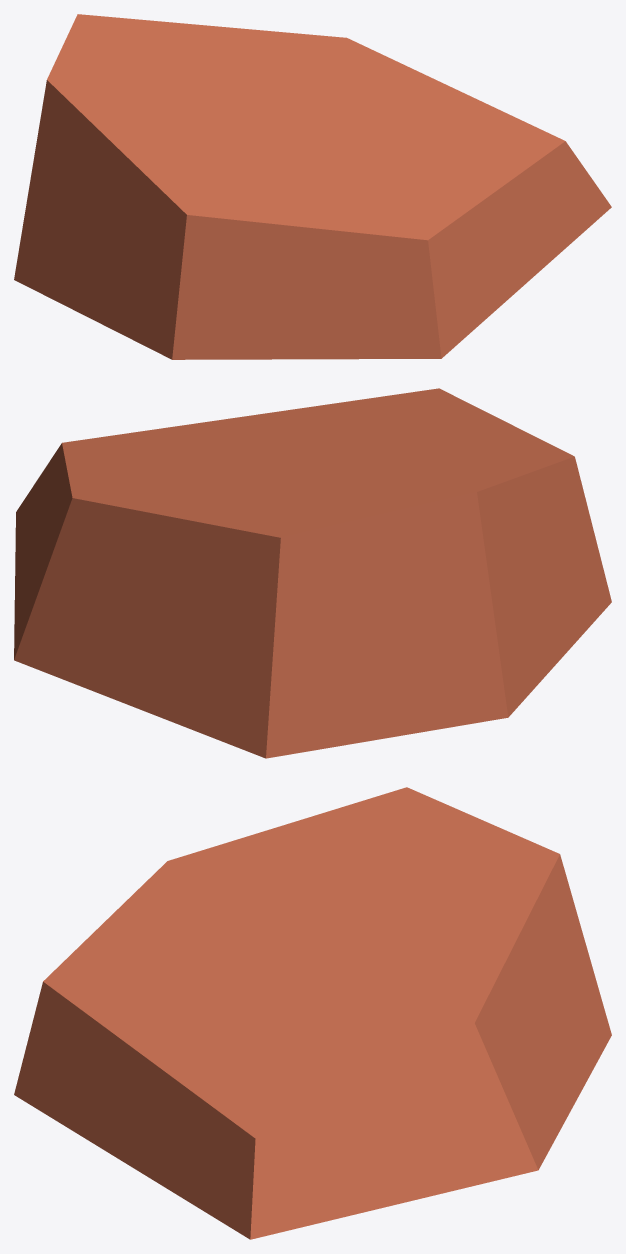
The model's file is Rock_Mesa_Medium_5.fbx.
3 views of the same model, one above another, from view 1: azimuth 30°, elevation 25°; view 2: azimuth 150°, elevation 25°; view 3: azimuth 270°, elevation 25° (orthographic). The views are drawn at different scales.
Parts seen in each view (by area): view 1: Rock; view 2: Rock; view 3: Rock.
Boxes of the visible parts, left/top/right/bottom form: Rock: left=14, top=14, right=611, bottom=359; Rock: left=14, top=388, right=611, bottom=758; Rock: left=14, top=787, right=611, bottom=1239.
Size of the model in its own units: 82.02 by 29.24 by 77.76.
